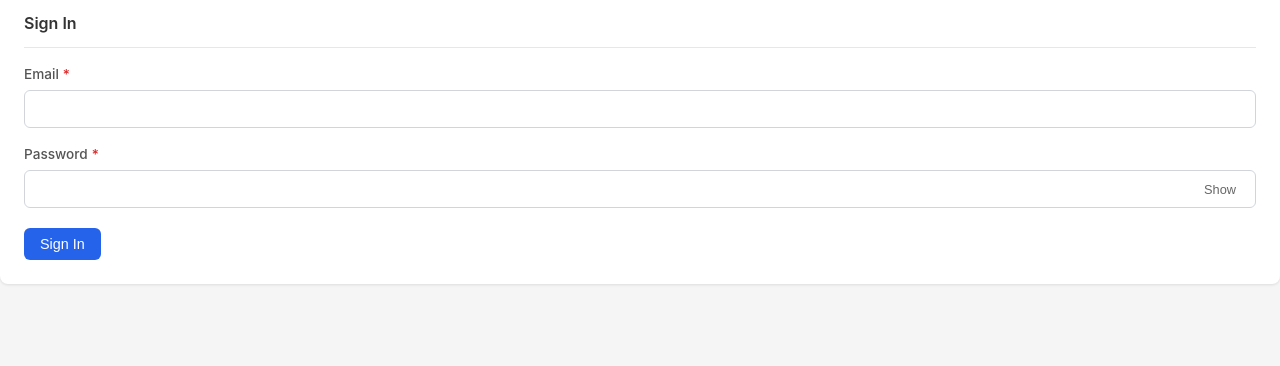
LoginForm › shows error message on failed login
The image size is (1280, 366).
Type "test@example.com" into the field labelled "Email*" at coordinates (640, 109), box [24,90,1256,128]
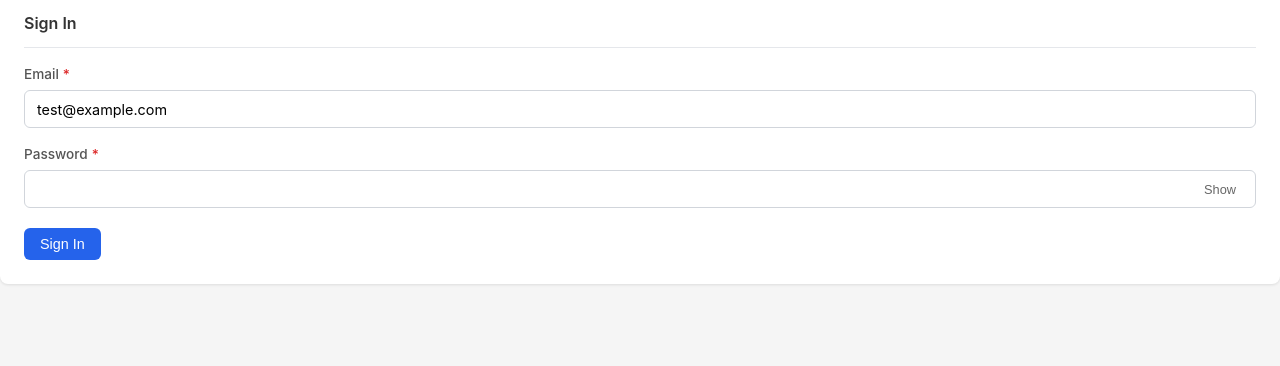
Type "WrongPassword" into the password field labelled "Password*" at coordinates (640, 189), box [24,170,1256,208]
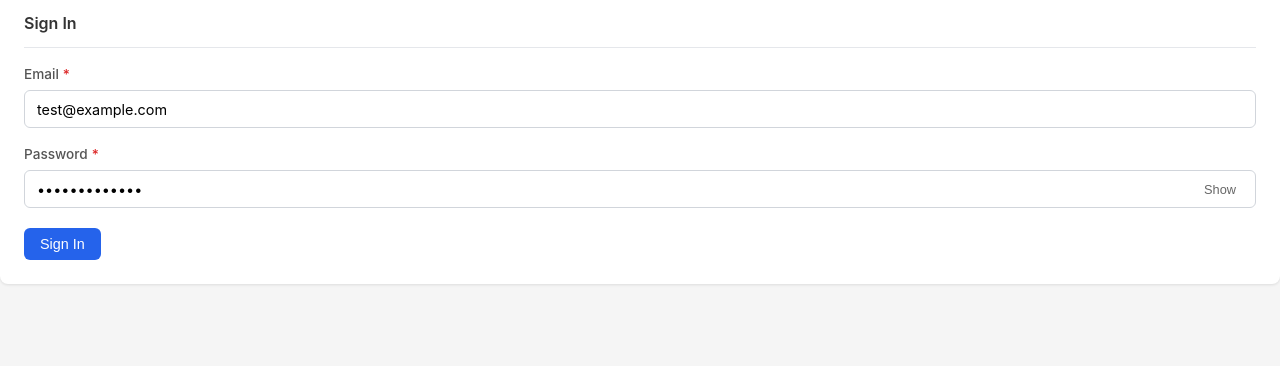
Click the button "Sign In" at coordinates (62, 244), box [24,228,101,260]
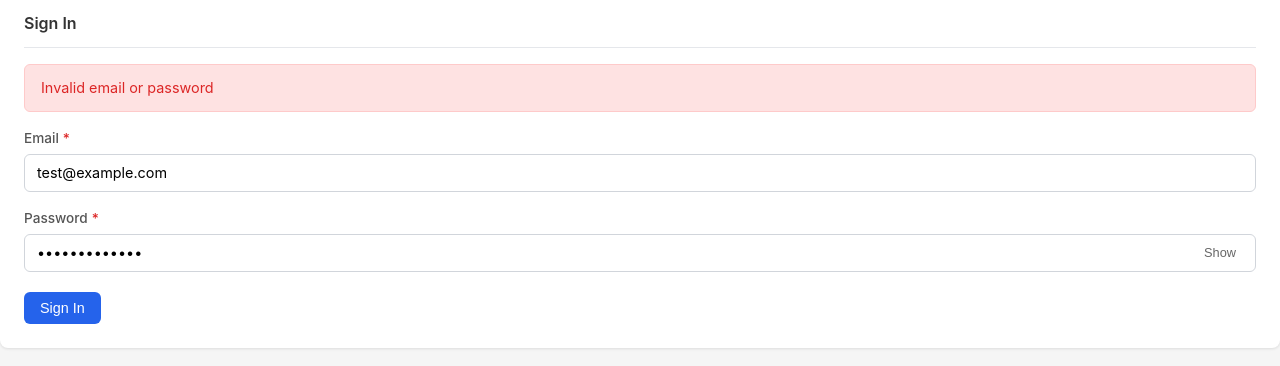
Check: the text "Invalid email or password" is shown, box [24,64,1256,112]
